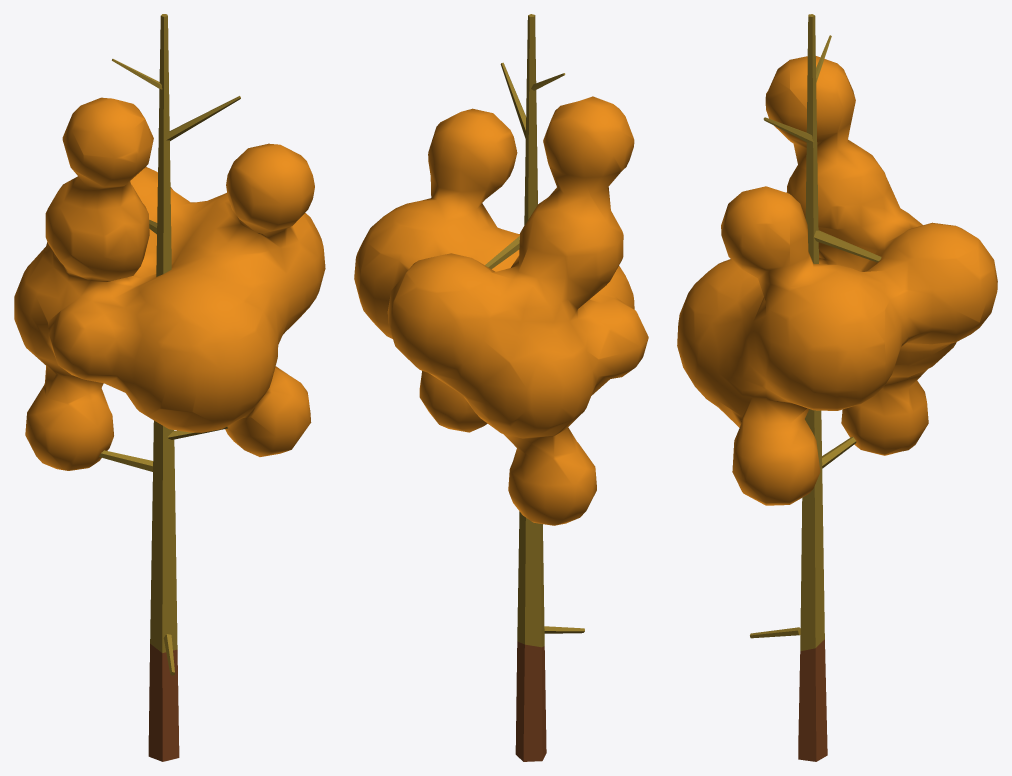
File: PINE5.fbx
The picture shows the model from 3 angles, left to right: view 1: azimuth 30°, elevation 25°; view 2: azimuth 150°, elevation 25°; view 3: azimuth 270°, elevation 25°; orthographic projection.
Visible parts, largest first — view 1: Mball, Cylinder; view 2: Mball, Cylinder; view 3: Mball, Cylinder.
Boxes of the visible parts, bbox=[...] form: Mball: bbox=[14, 97, 325, 470]; Cylinder: bbox=[99, 14, 240, 761]; Mball: bbox=[354, 96, 648, 525]; Cylinder: bbox=[485, 14, 584, 761]; Mball: bbox=[677, 56, 997, 505]; Cylinder: bbox=[750, 14, 881, 761].
Size of the model in its own units: 1109 by 2908 by 1142.
